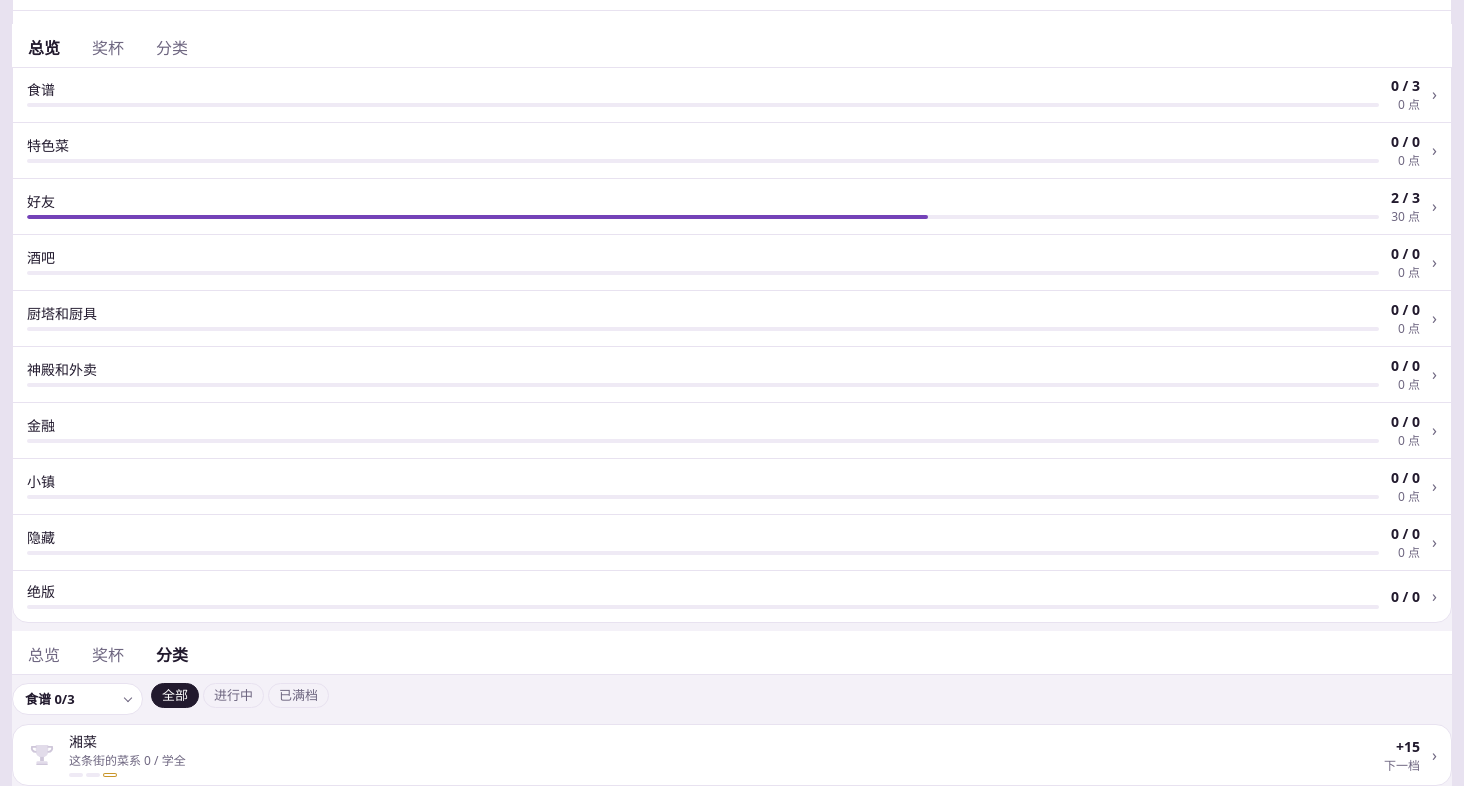
AchievementsView › 一级标签只有三个；总览的分类行进“分类”页那一类，分类页用下拉框换类
(page scrolled)
Select "好友 2/3" in the dropdown with test id "ach-cat-select". click: (78, 699)
box: [12, 683, 143, 715]
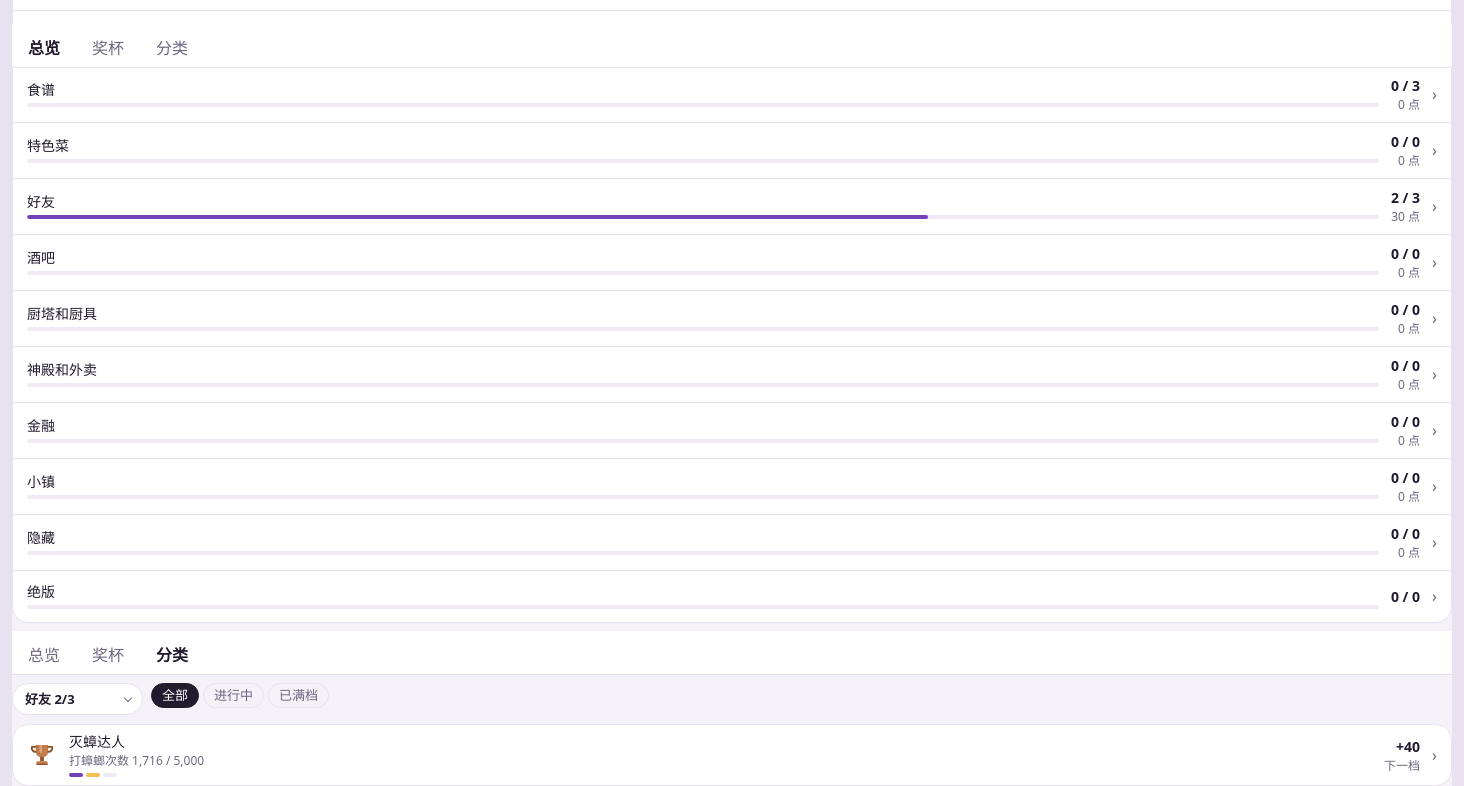
Result: the button with test id "ach-line-roach" is shown at [13, 725, 1451, 785]
